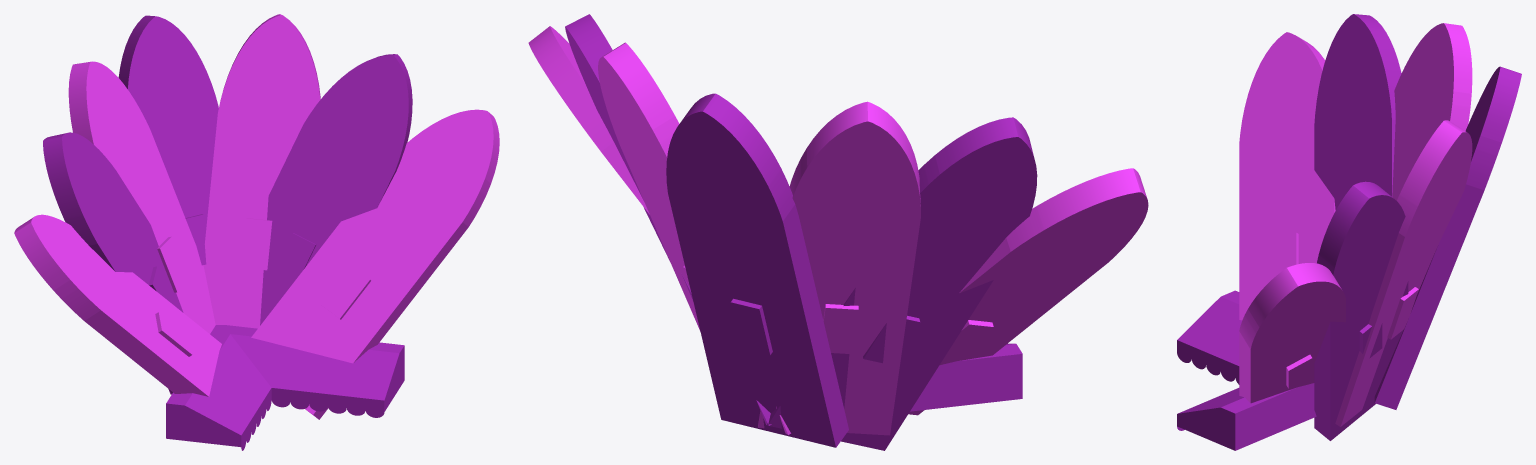
Rendered from shell_big.fbx.
3 views of the same model, side by side, from view 1: azimuth 30°, elevation 25°; view 2: azimuth 150°, elevation 25°; view 3: azimuth 270°, elevation 25° (orthographic). The views are drawn at different scales.
Parts seen in each view (by area): view 1: mergedBlocks; view 2: mergedBlocks; view 3: mergedBlocks.
Part boxes in pixels (left/top/right/bottom): mergedBlocks: left=14, top=14, right=499, bottom=450; mergedBlocks: left=528, top=14, right=1148, bottom=450; mergedBlocks: left=1177, top=14, right=1521, bottom=450.
Size of the model in its own units: 25.61 by 16.75 by 15.07.
